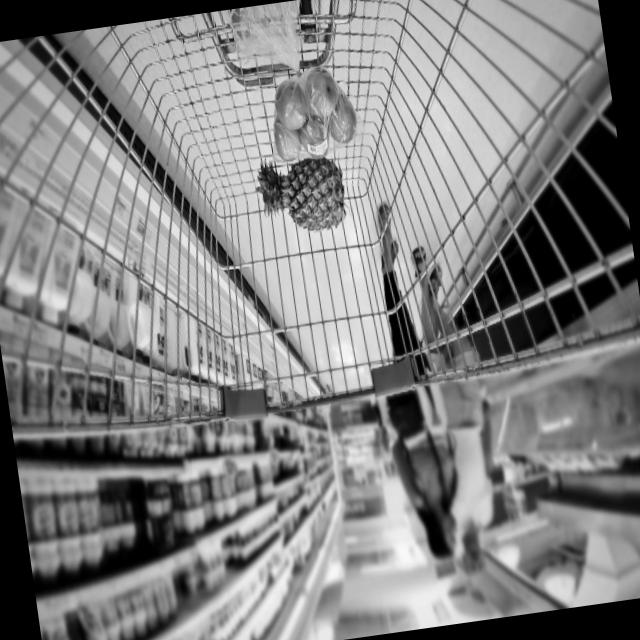dua: (253, 151, 352, 241)
tao: (262, 58, 364, 165)
